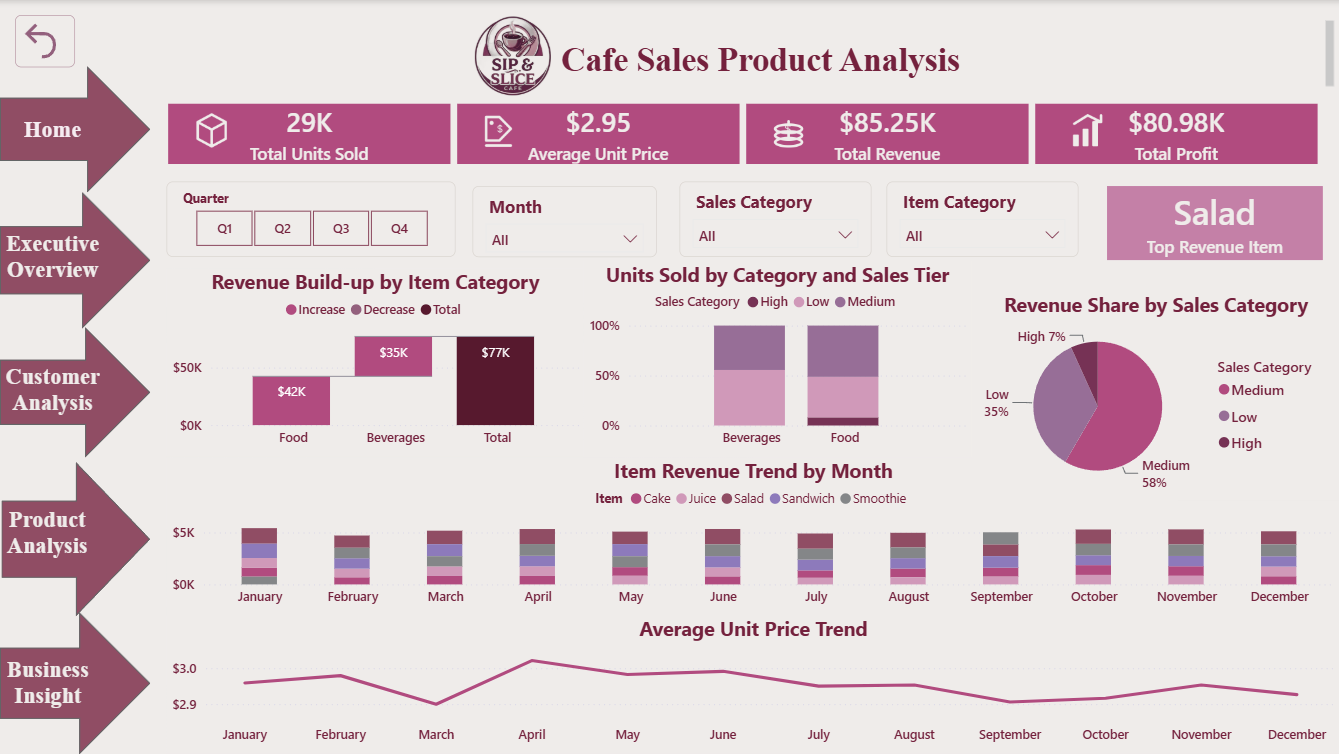

What the dashboard file says about the page in this screenshot:
{"tool":"powerbi","page":{"name":"Product Analysis","canvas":[1280,720],"ordinal":3},"visuals":[{"type":"group","id":"g1","title":"Group 5","box":[0,62.4,143.6,120.9],"z":0,"group":"g6"},{"type":"cardVisual","fields":{"Data":["_Measures.Total Units Sold","_Measures.Average Unit Price","_Measures.Total Revenue","_Measures.Total Profit"]},"box":[143.6,81.3,1135.8,92.6],"z":0,"group":"g10"},{"type":"cardVisual","fields":{"Data":["_Measures.Top Revenue Item"]},"box":[1039.4,160.6,240,105.8],"z":0},{"type":"group","id":"g2","title":"Group 6","box":[0,183.3,143.6,130.4],"z":1000,"group":"g6"},{"type":"waterfallChart","title":"Revenue Build-up by Item Category","fields":{"Category":["Cafe_Sales.Item Category"],"Y":["_Measures.Total Revenue"]},"box":[158.7,257,398.7,179.5],"z":1000},{"type":"group","id":"g3","title":"Group 7","box":[0,311.9,143.6,124.7],"z":2000,"group":"g6"},{"type":"ribbonChart","title":"Item Revenue Trend by Month","fields":{"Category":["Dim_Date.Month"],"Y":["_Measures.Total Revenue"],"Series":["Cafe_Sales.Item"]},"box":[158.7,436.5,1120.6,151.2],"z":2000},{"type":"group","id":"g4","title":"Group 8","box":[0,584,143.6,136.1],"z":3000,"group":"g6"},{"type":"lineChart","title":"Average Unit Price Trend","fields":{"Category":["Dim_Date.Month"],"Y":["_Measures.Average Unit Price"]},"box":[158.7,587.7,1120.6,132.3],"z":3000},{"type":"hundredPercentStackedColumnChart","title":"Units Sold by Category and Sales Tier","fields":{"Category":["Cafe_Sales.Item Category"],"Y":["_Measures.Total Units Sold"],"Series":["Cafe_Sales.Sales Category"]},"box":[557.5,249.5,370.4,187.1],"z":4000},{"type":"group","id":"g5","title":"Group 9","box":[0,440.4,143.6,147.4],"z":4000,"group":"g6"},{"type":"pieChart","title":" Revenue Share by Sales Category","fields":{"Category":["Cafe_Sales.Sales Category"],"Y":["_Measures.Total Revenue"]},"box":[927.9,277.8,351.5,200.3],"z":5000},{"type":"slicer","fields":{"Values":["Dim_Date.Quarter"]},"box":[158.7,173.9,275.9,71.8],"z":6000},{"type":"slicer","fields":{"Values":["Dim_Date.Month"]},"box":[451.7,177.6,175.7,68],"z":7000},{"type":"slicer","fields":{"Values":["Cafe_Sales.Sales Category"]},"box":[648.2,173.9,183.3,71.8],"z":8000},{"type":"slicer","fields":{"Values":["Cafe_Sales.Item Category"]},"box":[846.6,173.9,183.3,71.8],"z":9000},{"type":"group","id":"g6","title":"Group 1","box":[0,62.4,143.6,657.6],"z":10000},{"type":"group","id":"g7","title":"Group 2","box":[180.5,14.3,1098.6,77.3],"z":11000},{"type":"textbox","box":[180.5,14.3,1098.6,77.3],"z":11000,"group":"g7"},{"type":"group","id":"g8","title":"Group 4","box":[143.6,81.3,1135.8,92.6],"z":12000},{"type":"actionButton","box":[0,0,57.5,50],"z":13000},{"type":"image","box":[181.4,104,43.5,39.7],"z":13000,"group":"g9"},{"type":"image","box":[451.6,104,51,39.7],"z":14000,"group":"g9"},{"type":"image","box":[720,104,68,39.7],"z":15000,"group":"g9"},{"type":"image","box":[1003.5,104,71.8,39.7],"z":16000,"group":"g9"},{"type":"group","id":"g9","title":"Group 3","box":[181.4,104,893.9,39.7],"z":16001,"group":"g10"},{"type":"group","id":"g10","title":"Group 10","box":[143.6,81.3,1135.8,92.6],"z":16003,"group":"g8"},{"type":"image","box":[407.1,16.1,165.9,75.6],"z":17007,"group":"g7"},{"type":"shape","box":[0,584,143.6,136.1],"z":19000,"group":"g4"},{"type":"shape","box":[0,62.4,143.6,120.9],"z":20000,"group":"g1"},{"type":"shape","box":[0,311.9,143.6,124.7],"z":21000,"group":"g3"},{"type":"shape","box":[0,183.3,143.6,130.4],"z":22000,"group":"g2"},{"type":"shape","box":[1.6,440.4,142,147.4],"z":23000,"group":"g5"},{"type":"textbox","box":[0,104.9,100.4,39.7],"z":23005,"group":"g1"},{"type":"textbox","box":[0,214.4,100.7,64.2],"z":23007,"group":"g2"},{"type":"textbox","box":[0,342.1,100.7,66.4],"z":23009,"group":"g3"},{"type":"textbox","box":[0,477.4,90.4,64.1],"z":23011,"group":"g5"},{"type":"textbox","box":[0,620.9,91.7,70],"z":23012,"group":"g4"}]}

Visuals, with their boxes in screenshot pixels (x1, y1, x2, y2), scaled from the page's 1280x720 canvas onto the 1339x754 screenshot:
"Group 5" group: box=[0, 65, 150, 192]
cardVisual - _Measures.Total Units Sold x _Measures.Average Unit Price: box=[150, 85, 1338, 182]
cardVisual - _Measures.Top Revenue Item: box=[1087, 168, 1338, 279]
"Group 6" group: box=[0, 192, 150, 329]
"Revenue Build-up by Item Category" waterfallChart: box=[166, 269, 583, 457]
"Group 7" group: box=[0, 327, 150, 457]
"Item Revenue Trend by Month" ribbonChart: box=[166, 457, 1338, 615]
"Group 8" group: box=[0, 612, 150, 753]
"Average Unit Price Trend" lineChart: box=[166, 615, 1338, 753]
"Units Sold by Category and Sales Tier" hundredPercentStackedColumnChart: box=[583, 261, 971, 457]
"Group 9" group: box=[0, 461, 150, 616]
" Revenue Share by Sales Category" pieChart: box=[971, 291, 1338, 501]
slicer - Dim_Date.Quarter: box=[166, 182, 455, 257]
slicer - Dim_Date.Month: box=[473, 186, 656, 257]
slicer - Cafe_Sales.Sales Category: box=[678, 182, 870, 257]
slicer - Cafe_Sales.Item Category: box=[886, 182, 1077, 257]
"Group 1" group: box=[0, 65, 150, 753]
"Group 2" group: box=[189, 15, 1338, 96]
textbox: box=[189, 15, 1338, 96]
"Group 4" group: box=[150, 85, 1338, 182]
actionButton: box=[0, 0, 60, 52]
image: box=[190, 109, 235, 150]
image: box=[472, 109, 526, 150]
image: box=[753, 109, 824, 150]
image: box=[1050, 109, 1125, 150]
"Group 3" group: box=[190, 109, 1125, 150]
"Group 10" group: box=[150, 85, 1338, 182]
image: box=[426, 17, 599, 96]
shape: box=[0, 612, 150, 753]
shape: box=[0, 65, 150, 192]
shape: box=[0, 327, 150, 457]
shape: box=[0, 192, 150, 329]
shape: box=[2, 461, 150, 616]
textbox: box=[0, 110, 105, 151]
textbox: box=[0, 225, 105, 292]
textbox: box=[0, 358, 105, 428]
textbox: box=[0, 500, 95, 567]
textbox: box=[0, 650, 96, 724]
